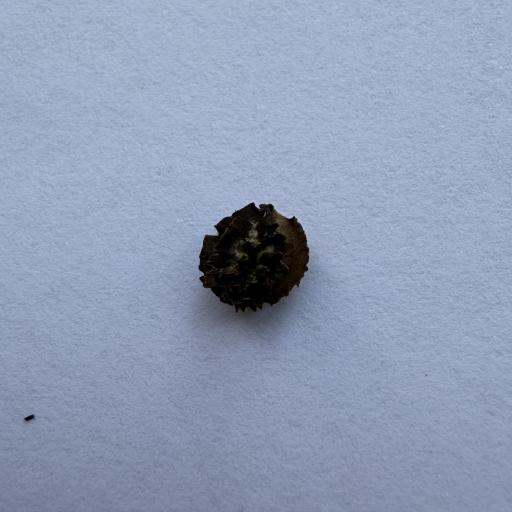papaya_seed: (169, 187, 317, 321)
